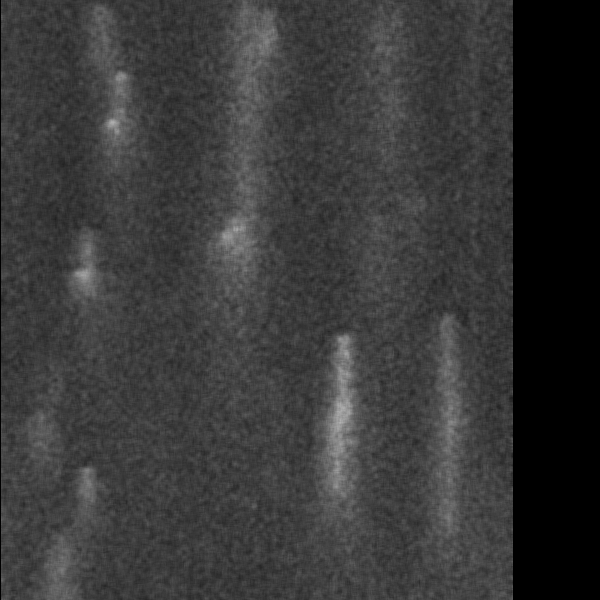spark: (317, 313, 356, 591), (61, 240, 103, 344), (215, 206, 254, 286), (73, 464, 99, 576), (90, 3, 119, 91), (30, 403, 51, 508)
